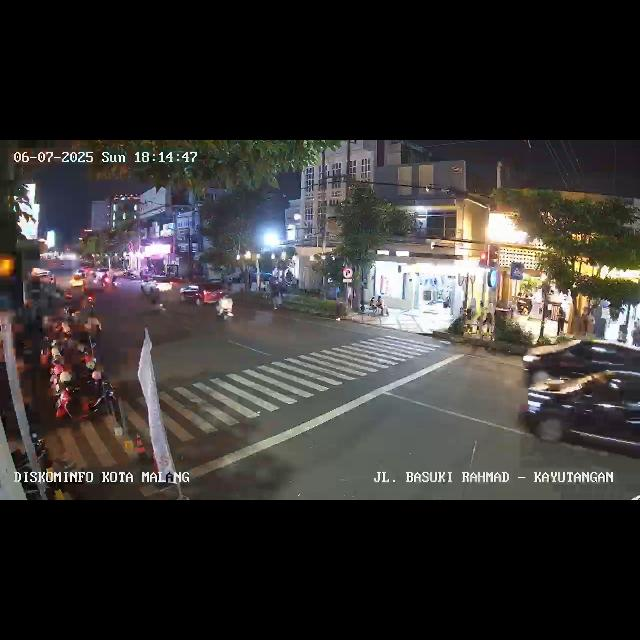car: (522, 366, 638, 466), (523, 339, 640, 385), (178, 282, 218, 306), (26, 267, 56, 289), (68, 270, 86, 288)
motorcycle: (214, 292, 236, 324), (148, 286, 168, 316)
person: (86, 314, 100, 350), (556, 304, 566, 334), (483, 300, 493, 328), (468, 296, 477, 326), (618, 320, 628, 342), (598, 314, 606, 340), (632, 320, 640, 346)
